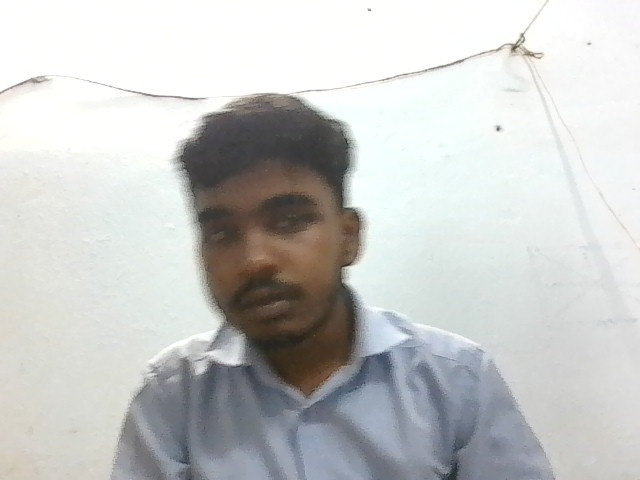real: (175, 84, 374, 366)
